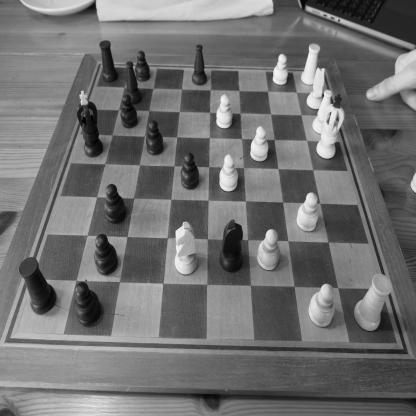black-bishop: (191, 44, 208, 86), (126, 61, 142, 105)
black-king: (76, 90, 104, 158)
black-knight: (219, 219, 243, 273)
black-pawn: (74, 281, 101, 327), (94, 233, 118, 276), (104, 183, 126, 225), (180, 152, 200, 190), (146, 120, 164, 156), (120, 94, 138, 129), (135, 50, 150, 82)
black-rook: (18, 256, 58, 315), (99, 40, 118, 82)
white-bishop: (312, 90, 332, 136)
white-king: (316, 93, 345, 160)
white-knight: (175, 221, 198, 275), (306, 67, 326, 111)
white-pawn: (308, 283, 335, 328), (257, 229, 280, 271), (296, 192, 319, 232), (218, 154, 238, 193), (250, 126, 269, 162), (216, 94, 233, 129), (272, 54, 288, 86)
white-rook: (353, 273, 393, 332), (300, 43, 320, 85)
